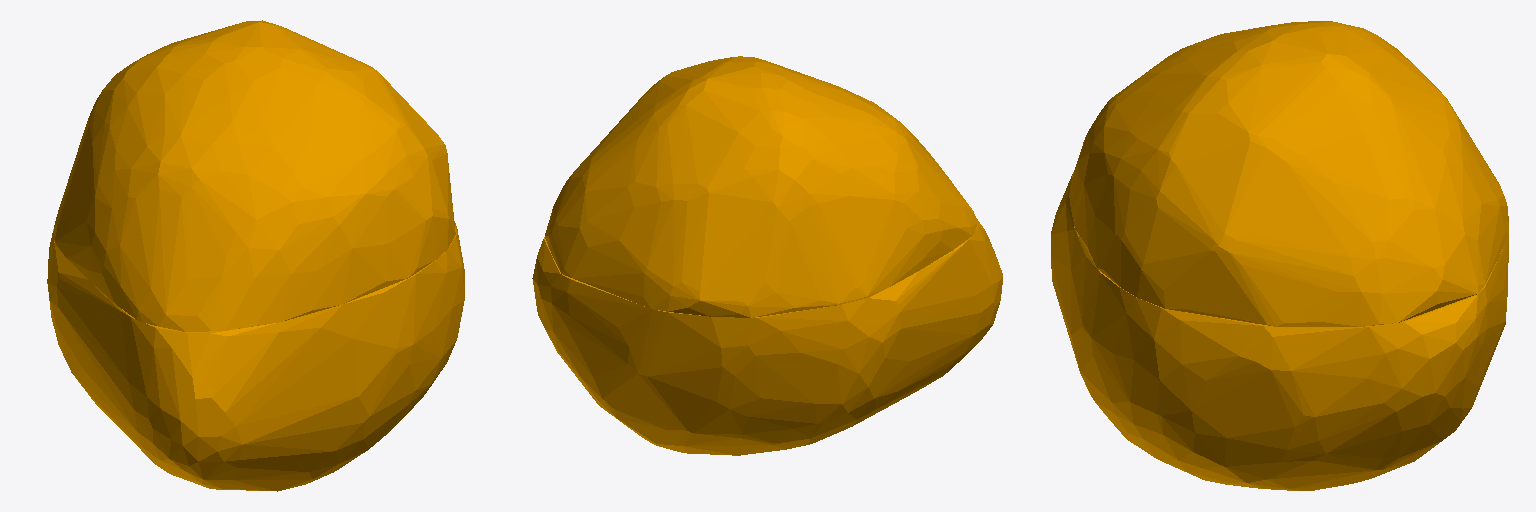
robot.urdf — 012_strawberry:
<?xml version="1.0" encoding="UTF-8"?>
<robot name="012_strawberry">
	<link name="base">
		<collision>
			<geometry>
				<mesh filename="..\vhacd\012_strawberry_vhacd.obj" scale="1.0 1.0 1.0"/>
			</geometry>
			<origin xyz="0 0 0"/>
			<contact_coefficients mu="0.24" />
		</collision>
		<visual>
			<geometry>
				<mesh filename="..\vhacd\012_strawberry_vhacd.obj" scale="1.0 1.0 1.0"/>
			</geometry>
			<origin xyz="0 0 0"/>
		</visual>
		<inertial>
			<mass value="0"/>
			<inertia ixx="0.0" ixy="-0.0" ixz="-0.0" iyy="0.0" iyz="-0.0" izz="0.0" />
			<origin xyz="-0.001493872792790811 0.015432679896266328 0.021114503270189145"/>
		</inertial>
	</link>
</robot>

--- Render facts (derived) ---
The picture shows the robot from 3 angles, left to right: view 1: azimuth 30°, elevation 25°; view 2: azimuth 150°, elevation 25°; view 3: azimuth 270°, elevation 25°; orthographic projection.
Robot: 012_strawberry — 1 links, 0 joints (none); root link base; default pose: every joint at zero.
Visible links, largest first — view 1: base; view 2: base; view 3: base.
Link boxes in pixels (x1=…): base: x1=47, y1=20, x2=464, y2=491; base: x1=532, y1=56, x2=1002, y2=455; base: x1=1051, y1=21, x2=1508, y2=490.
Size in the robot's own frame: 0.0455 by 0.0455 by 0.0459 metres.
1 mesh visuals loaded from 1 distinct referenced files (1 OBJ).